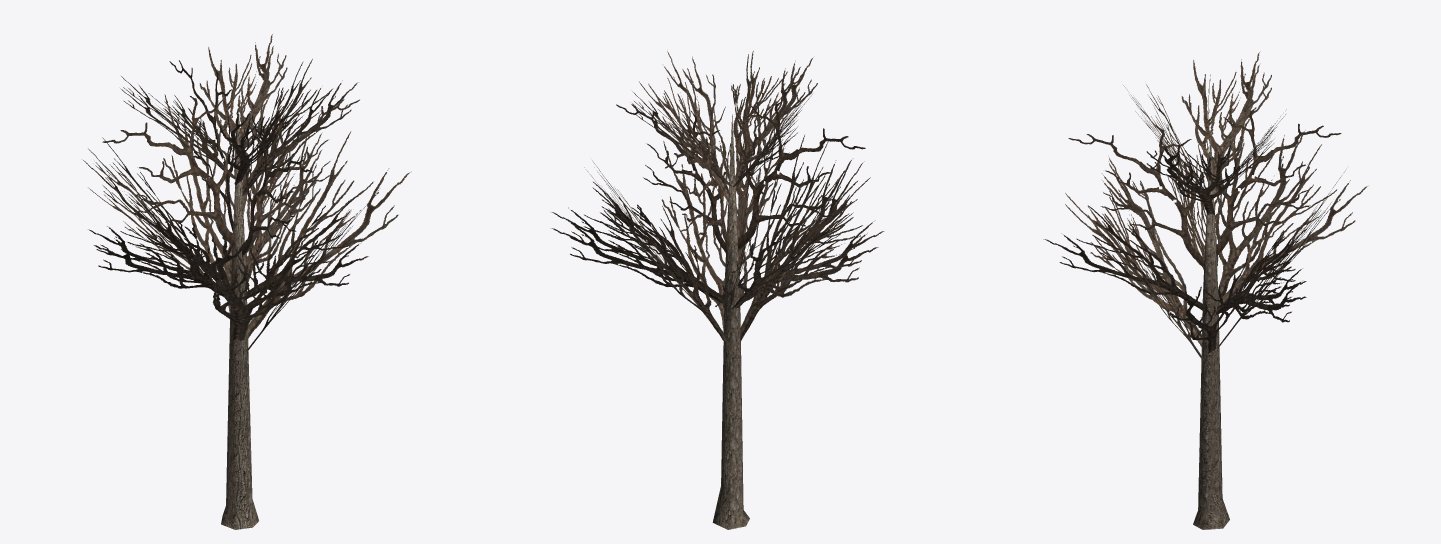
Rendered from tree1b.fbx.
The picture shows the model from 3 angles, left to right: view 1: azimuth 30°, elevation 25°; view 2: azimuth 150°, elevation 25°; view 3: azimuth 270°, elevation 25°; orthographic projection. The views are drawn at different scales.
Visible parts, largest first — view 1: mesh_0, mesh_5, mesh_2, mesh_8, mesh_15, mesh_16, mesh_6, mesh_12, mesh_3, mesh_9, mesh_17, mesh_14 (+6 smaller); view 2: mesh_0, mesh_8, mesh_6, mesh_14, mesh_5, mesh_15, mesh_1, mesh_12, mesh_3, mesh_4, mesh_10, mesh_16 (+4 smaller); view 3: mesh_0, mesh_5, mesh_17, mesh_7, mesh_6, mesh_4, mesh_9, mesh_11, mesh_15, mesh_13, mesh_2, mesh_8 (+4 smaller).
Boxes of the visible parts, x1=… form: mesh_0: x1=221, y1=106, x2=258, y2=529; mesh_5: x1=191, y1=231, x2=321, y2=341; mesh_2: x1=248, y1=131, x2=411, y2=338; mesh_8: x1=88, y1=205, x2=228, y2=296; mesh_15: x1=242, y1=59, x2=358, y2=195; mesh_16: x1=199, y1=34, x2=287, y2=176; mesh_6: x1=246, y1=102, x2=322, y2=281; mesh_12: x1=102, y1=96, x2=235, y2=248; mesh_3: x1=163, y1=87, x2=265, y2=313; mesh_9: x1=243, y1=194, x2=368, y2=300; mesh_17: x1=120, y1=76, x2=235, y2=179; mesh_14: x1=220, y1=99, x2=297, y2=185; mesh_0: x1=712, y1=114, x2=749, y2=529; mesh_8: x1=739, y1=177, x2=884, y2=302; mesh_6: x1=551, y1=182, x2=725, y2=303; mesh_14: x1=731, y1=51, x2=817, y2=190; mesh_5: x1=740, y1=135, x2=864, y2=342; mesh_15: x1=639, y1=51, x2=728, y2=202; mesh_1: x1=661, y1=128, x2=760, y2=330; mesh_12: x1=738, y1=101, x2=865, y2=309; mesh_3: x1=600, y1=188, x2=730, y2=343; mesh_4: x1=731, y1=212, x2=853, y2=309; mesh_10: x1=616, y1=104, x2=728, y2=252; mesh_16: x1=632, y1=91, x2=731, y2=186; mesh_0: x1=1193, y1=130, x2=1229, y2=529; mesh_5: x1=1065, y1=156, x2=1201, y2=346; mesh_17: x1=1181, y1=51, x2=1271, y2=193; mesh_7: x1=1218, y1=144, x2=1367, y2=305; mesh_6: x1=1216, y1=223, x2=1306, y2=322; mesh_4: x1=1215, y1=119, x2=1309, y2=299; mesh_9: x1=1043, y1=205, x2=1203, y2=310; mesh_11: x1=1214, y1=107, x2=1341, y2=256; mesh_15: x1=1146, y1=140, x2=1243, y2=214; mesh_13: x1=1068, y1=126, x2=1204, y2=317; mesh_2: x1=1170, y1=257, x2=1254, y2=353; mesh_8: x1=1166, y1=124, x2=1221, y2=269.
Size of the model in its own units: 630 by 654 by 613.
2 materials, 2 textured.
